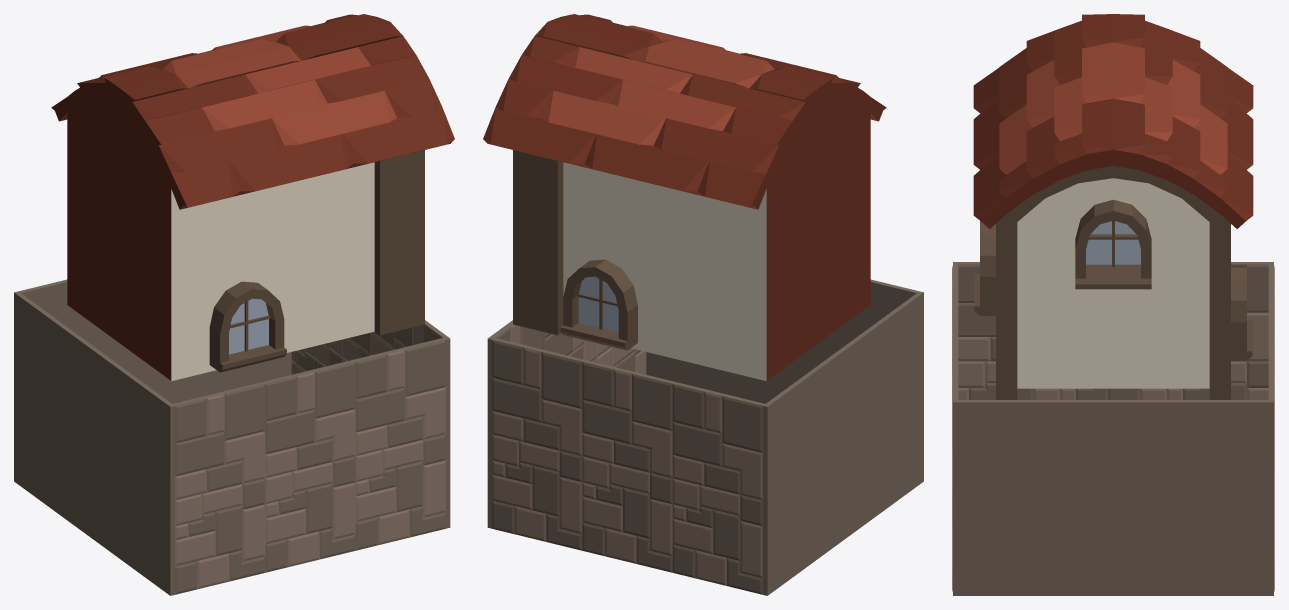
File: village-watchtower.obj
3 renders of one model, left to right at view 1: azimuth 30°, elevation 25°; view 2: azimuth 150°, elevation 25°; view 3: azimuth 270°, elevation 25°, orthographic. The views are drawn at different scales.
Visible parts, largest first — view 1: village-watchtower; view 2: village-watchtower; view 3: village-watchtower.
Boxes of the visible parts, x1,y1,x2,y2 form: village-watchtower: [14, 14, 454, 595]; village-watchtower: [483, 14, 923, 595]; village-watchtower: [952, 14, 1274, 595].
Size of the model in its own units: 3.3 by 4.7 by 3.01.
